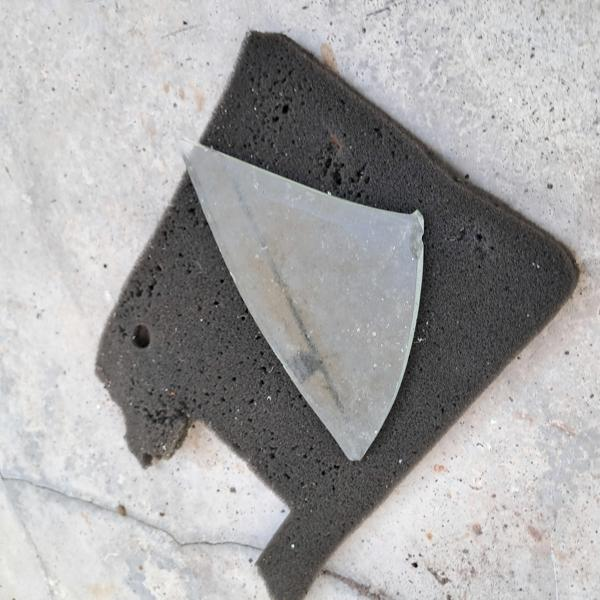Anorganik: (159, 110, 447, 474)
